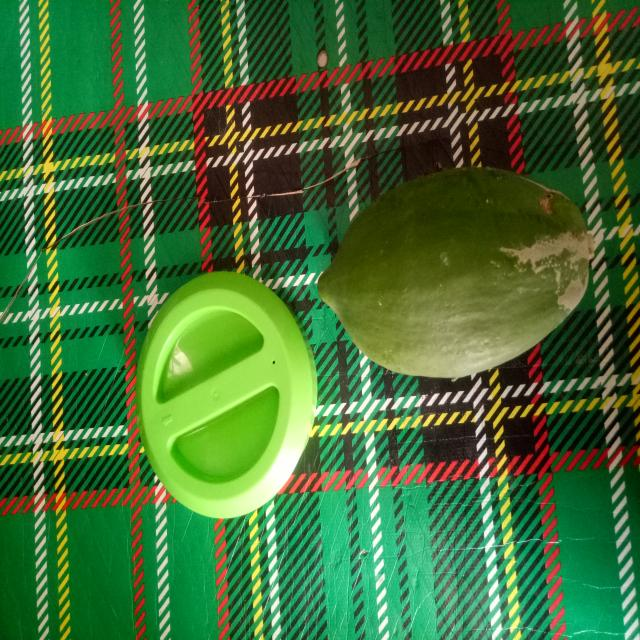Pepaya unrippen: (314, 151, 591, 376)
